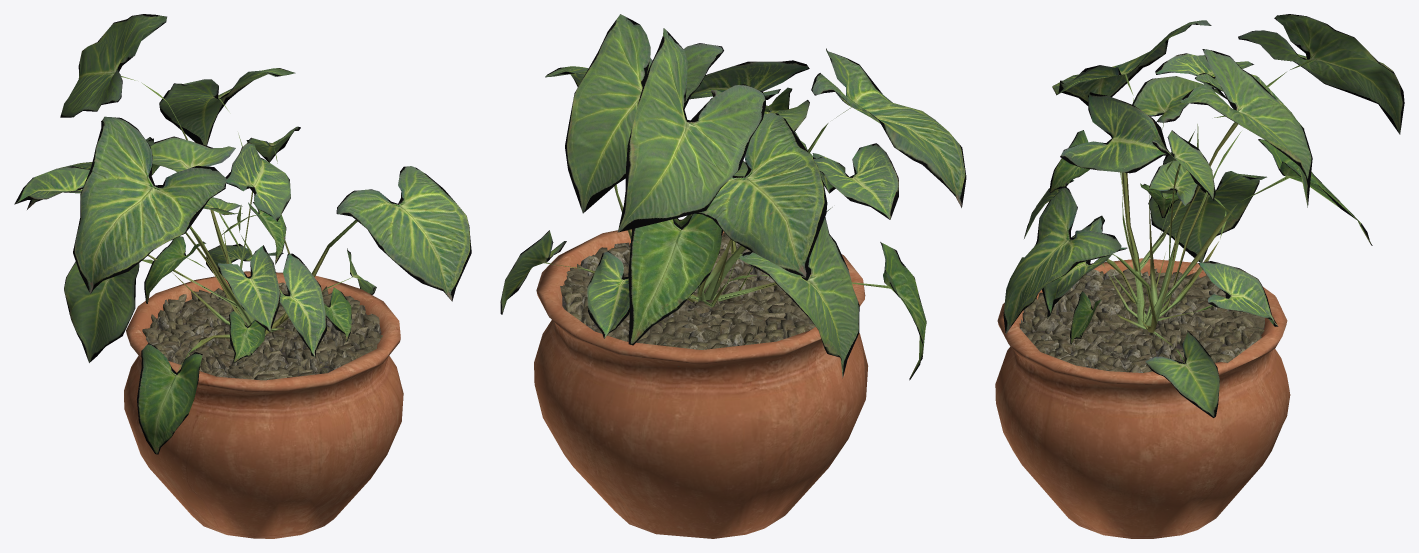
The model's file is potted_plant_02_lod.glb.
3 renders of one model, left to right at view 1: azimuth 30°, elevation 25°; view 2: azimuth 150°, elevation 25°; view 3: azimuth 270°, elevation 25°, orthographic. The views are drawn at different scales.
Parts seen in each view (by area): view 1: potted_plant_02_leaves, potted_plant_02_pot, potted_plant_02_dirt; view 2: potted_plant_02_leaves, potted_plant_02_pot, potted_plant_02_dirt; view 3: potted_plant_02_leaves, potted_plant_02_pot, potted_plant_02_dirt.
Part boxes in pixels (x1,y1,x2,y2): potted_plant_02_leaves: [14, 14, 471, 454]; potted_plant_02_pot: [124, 271, 403, 538]; potted_plant_02_dirt: [142, 282, 382, 380]; potted_plant_02_leaves: [500, 14, 966, 380]; potted_plant_02_pot: [534, 219, 868, 538]; potted_plant_02_dirt: [560, 232, 815, 366]; potted_plant_02_leaves: [1003, 14, 1404, 417]; potted_plant_02_pot: [995, 258, 1290, 538]; potted_plant_02_dirt: [1019, 268, 1264, 372].
Size of the model in its own units: 0.7009 by 0.8397 by 0.6561.
Materials: 2 (2 with a texture image).
